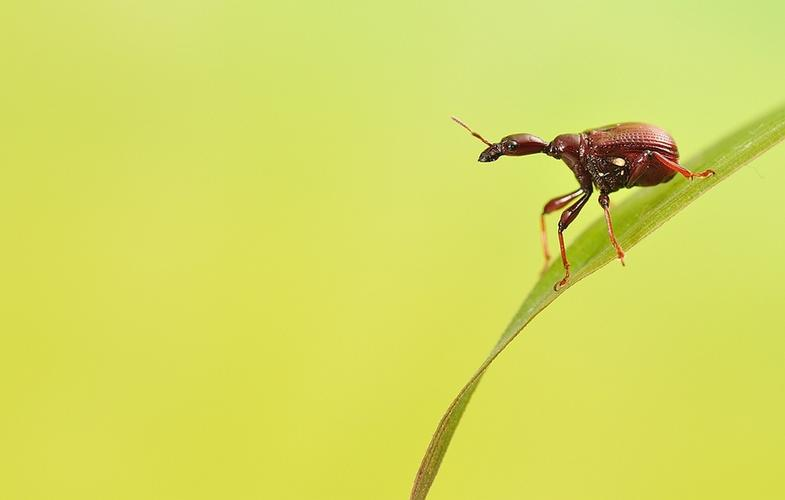Curculionidae: (450, 115, 717, 292)
